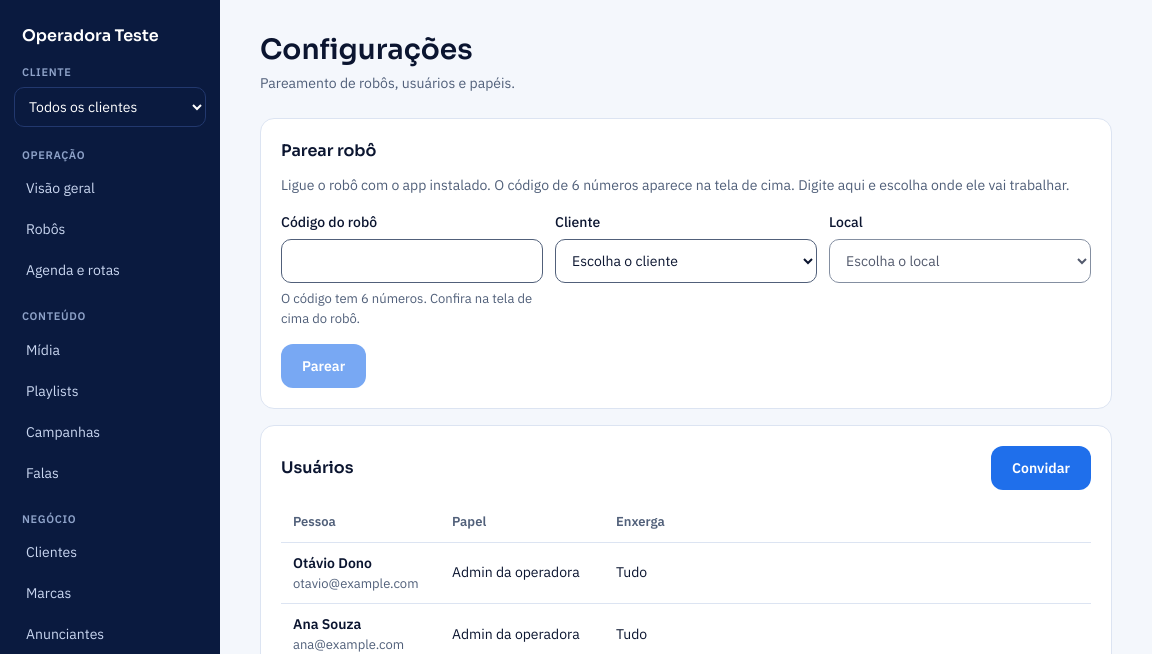
Test case: pairing a robot › warns that pairing an existing robot again replaces its token and may move it
The image size is (1152, 654).
Type "042917" into the field labelled "Código do robô" at (412, 261), box 281,239 -> 543,283
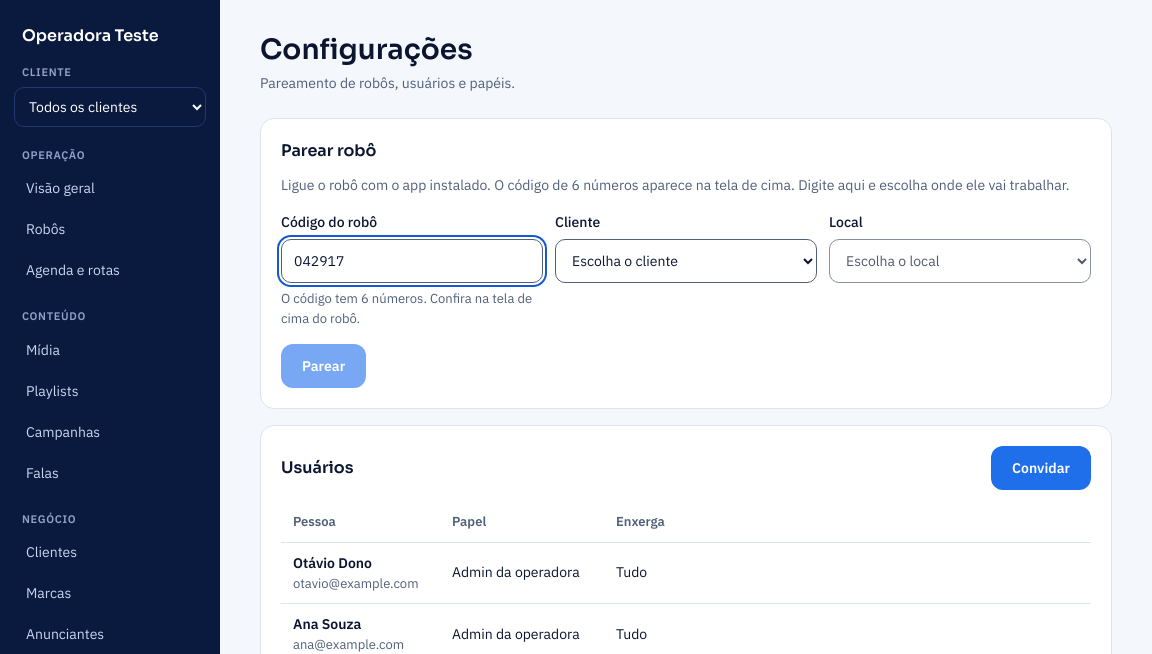
Select "Shopping Alfa" in the dropdown labelled "Cliente" below "Código do robô" at (686, 261), box 555,239 -> 817,283
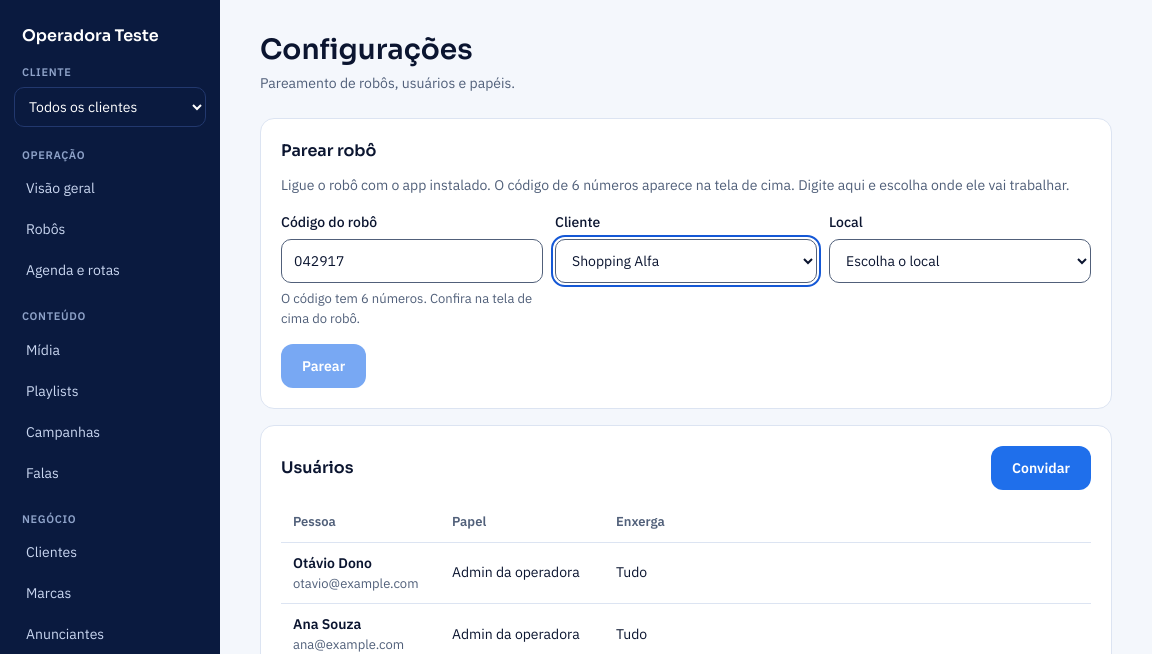
Select "Alfa - Piso L1" in the dropdown labelled "Local" at (960, 261), box 829,239 -> 1091,283
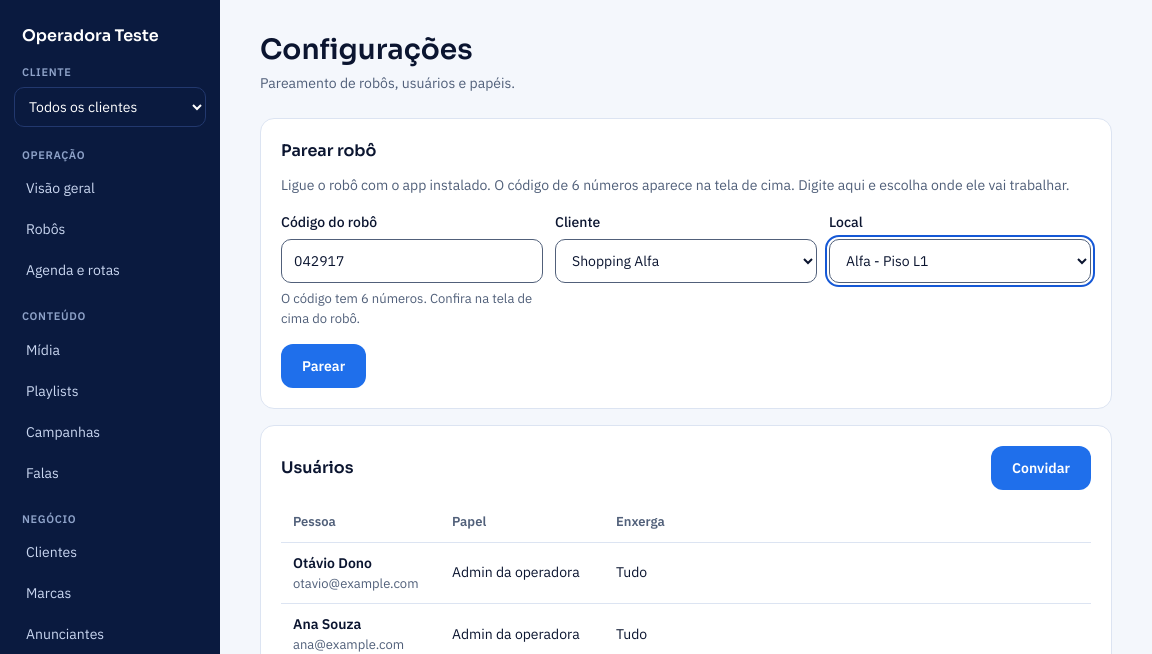
Click the button "Parear" at (324, 366), box 281,344 -> 366,388
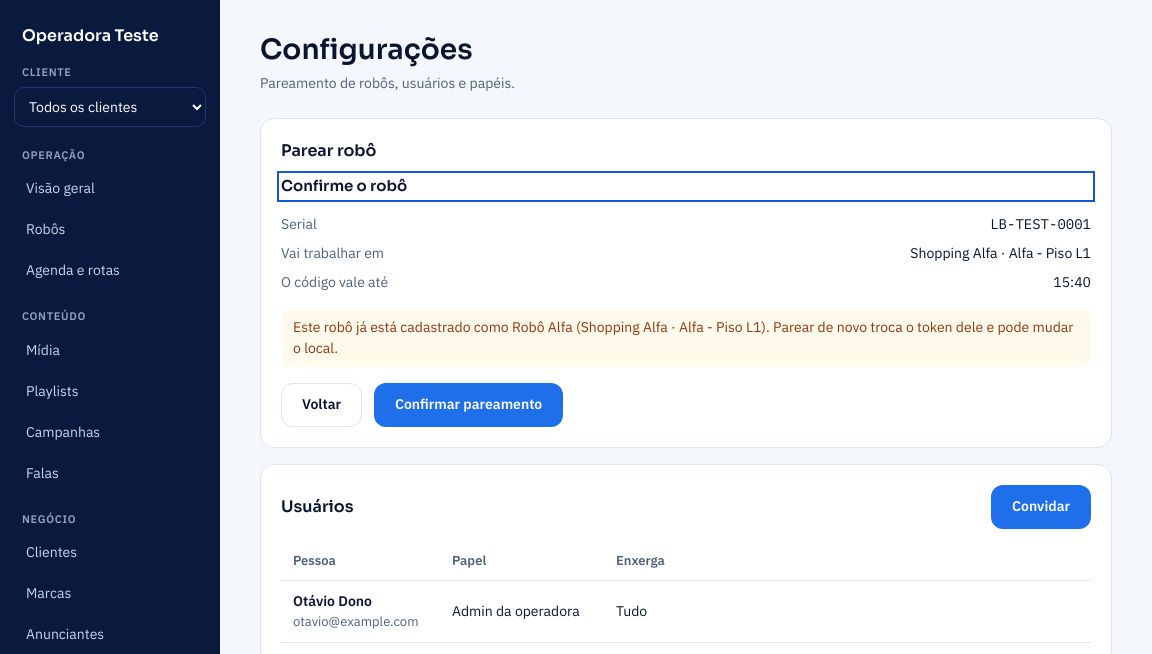
Check: the message shows "Este robô já está cadastrado como Robô Alfa (Shopping Alfa · Alfa - Piso L1). Parear de novo troca o token dele e pode mudar o local.", box 281,308 -> 1091,366
